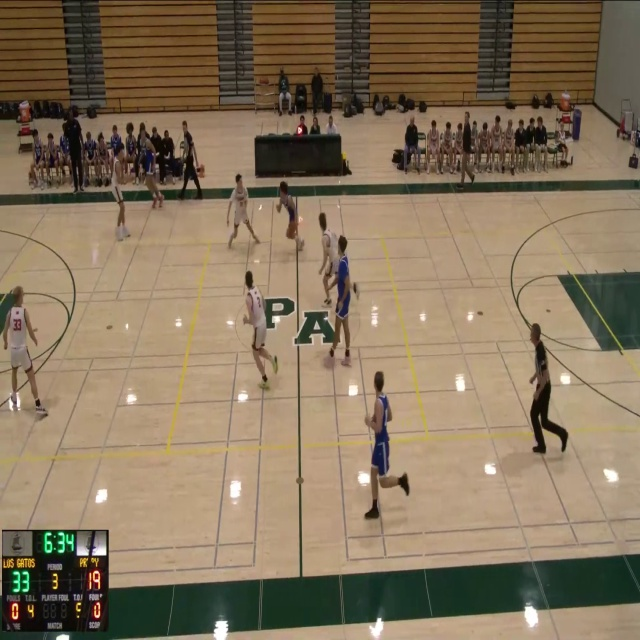Basketball: (286, 223, 297, 239)
